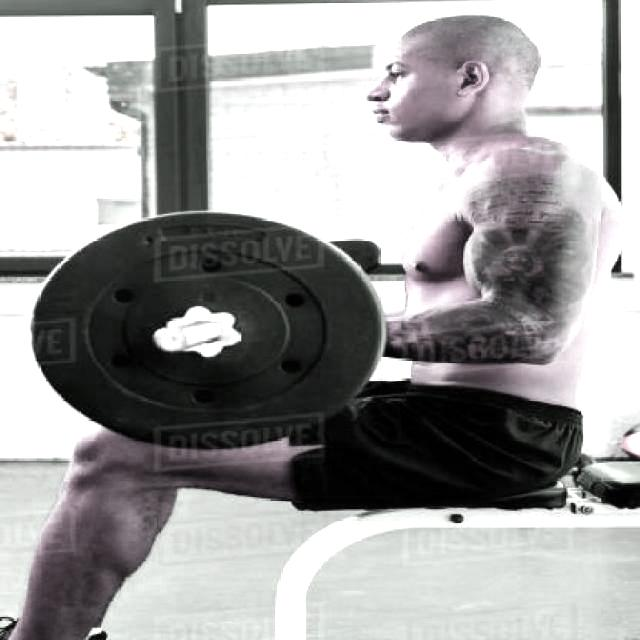barbell: (22, 195, 392, 452)
